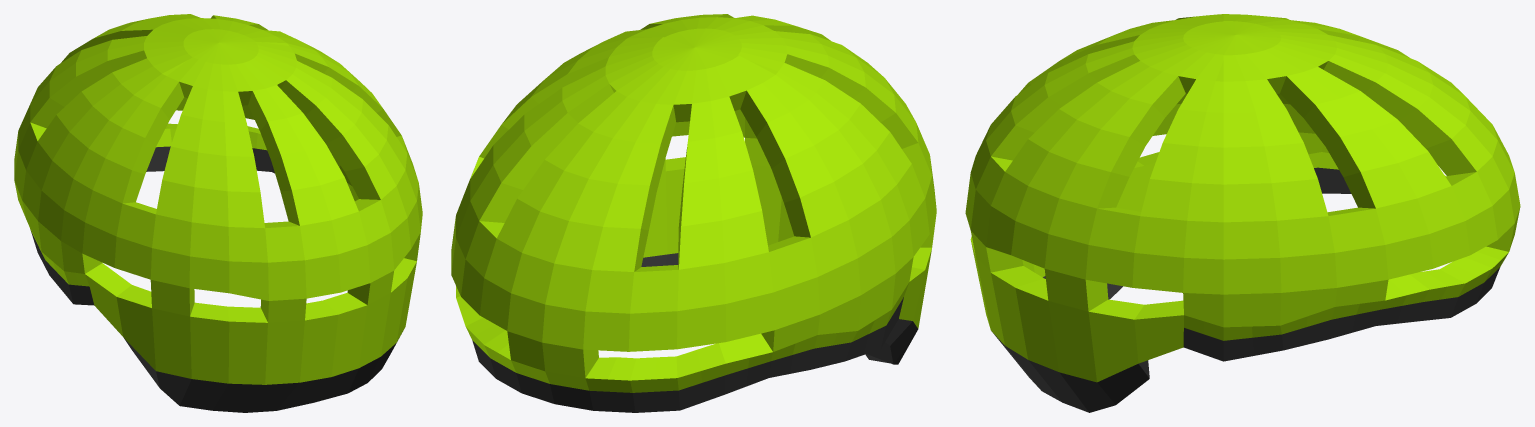
Rendered from helmet.glb.
3 renders of one model, left to right at view 1: azimuth 30°, elevation 25°; view 2: azimuth 150°, elevation 25°; view 3: azimuth 270°, elevation 25°, orthographic. The views are drawn at different scales.
Parts seen in each view (by area): view 1: Sphere; view 2: Sphere; view 3: Sphere.
Boxes of the visible parts, x1,y1,x2,y2 form: Sphere: [14, 14, 422, 412]; Sphere: [451, 14, 936, 412]; Sphere: [965, 14, 1520, 412].
Size of the model in its own units: 0.9113 by 0.7753 by 1.21.
